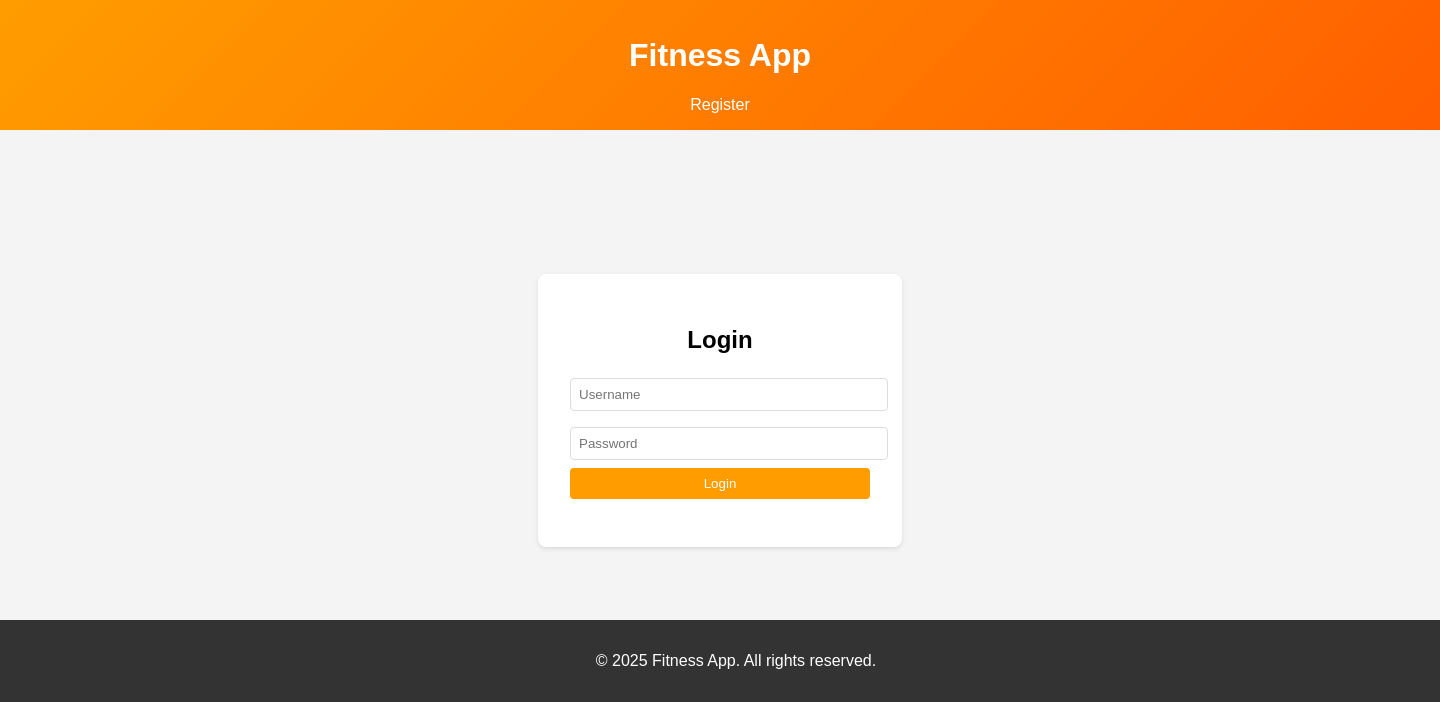
Tests what happens when u log in with a wrong password
The image size is (1440, 702).
In the field with id "loginUsername": point(729, 395) 570,378 -> 888,411, type "yordi"
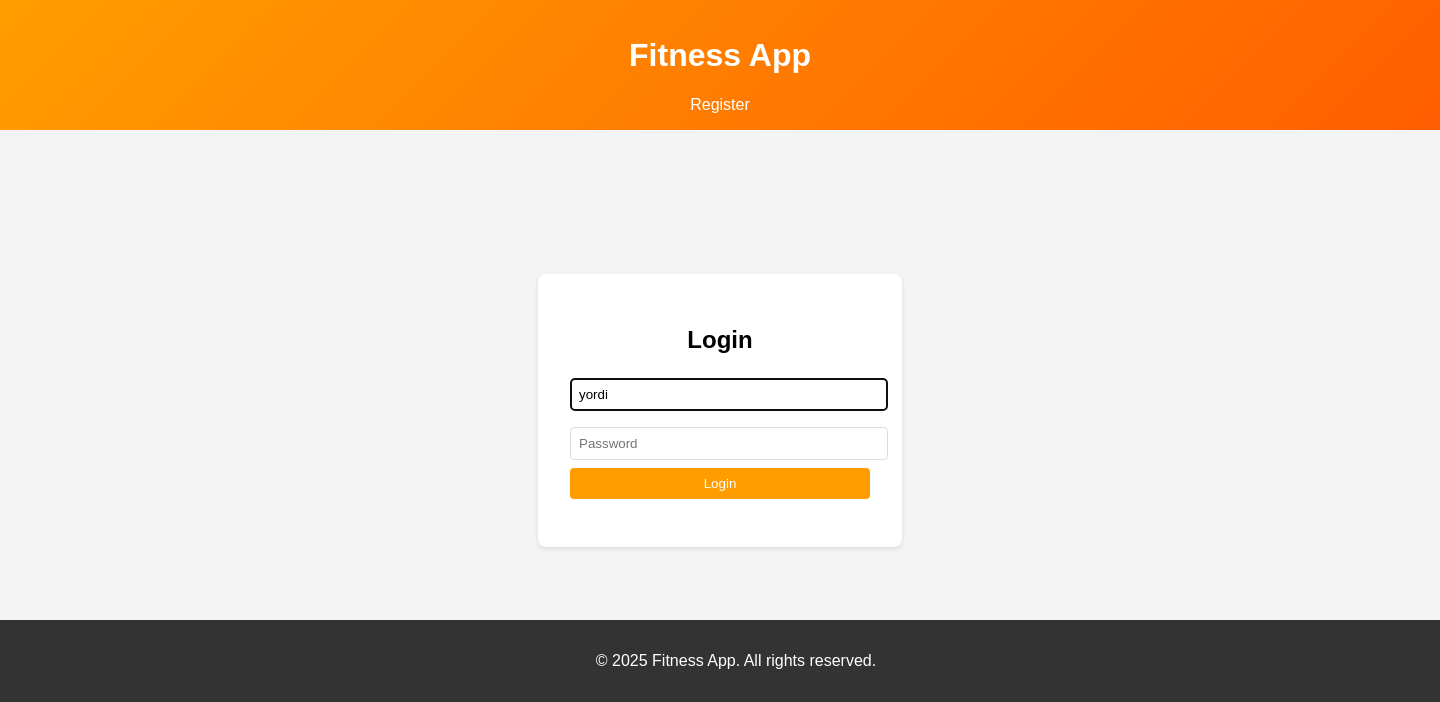
In the password field with id "loginPassword": point(729, 444) 570,427 -> 888,460, type "abc"
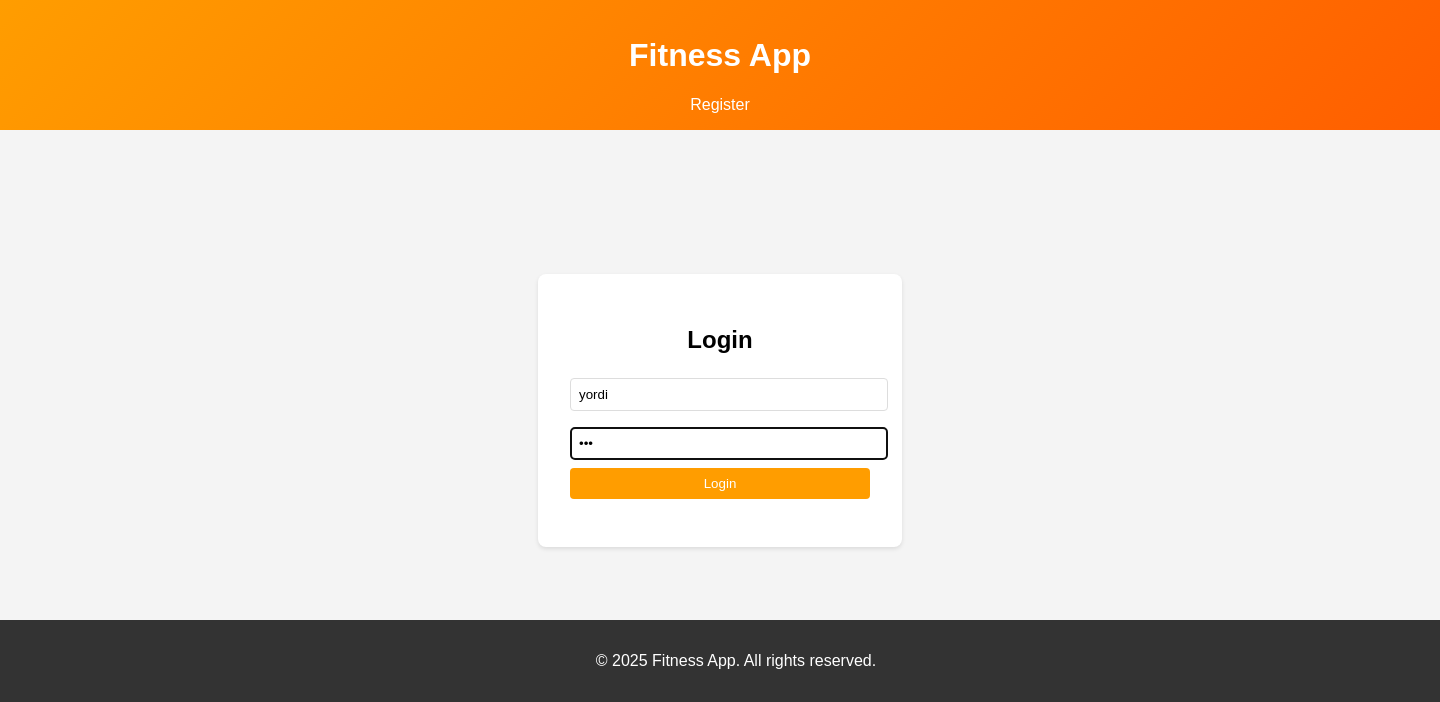
Click the button "Login": point(720, 484) 570,468 -> 870,499
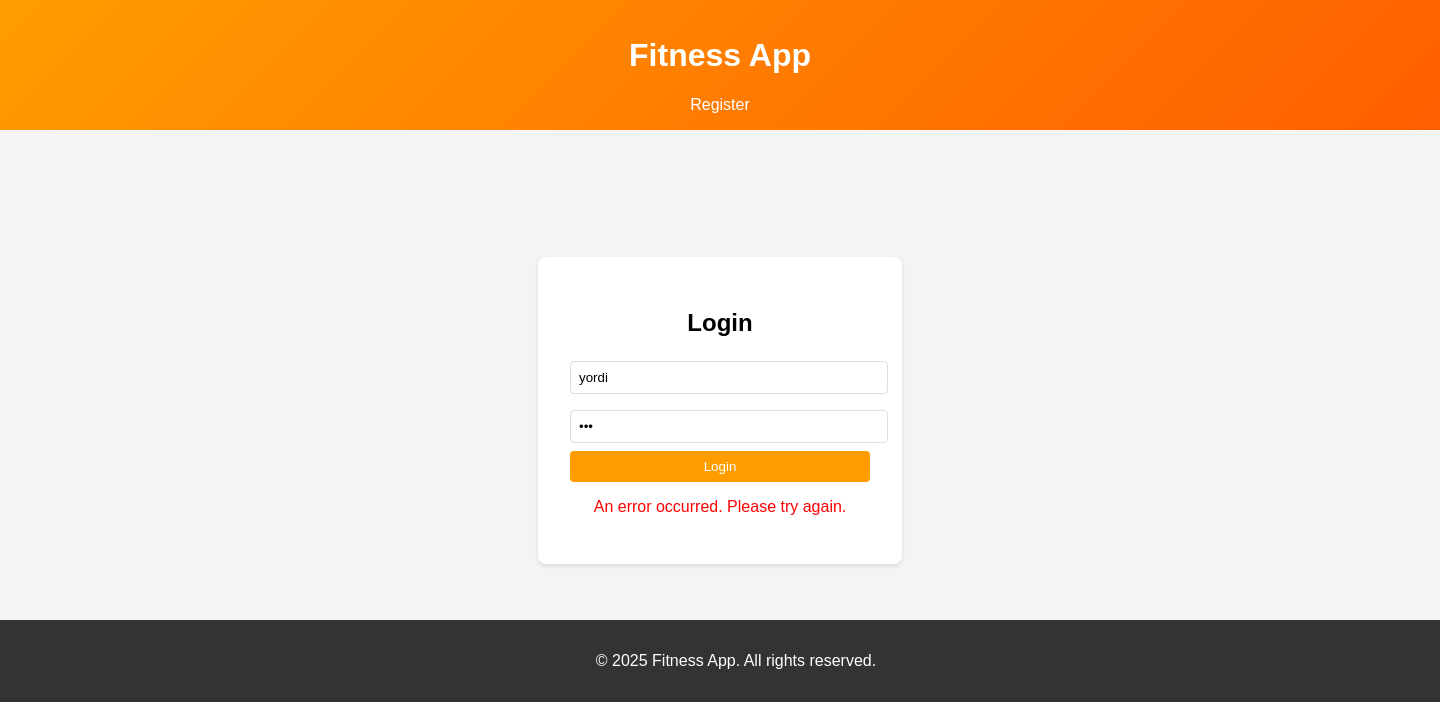
Check: the text "An error occurred. Please try again." is shown, box 594,498 -> 846,515
